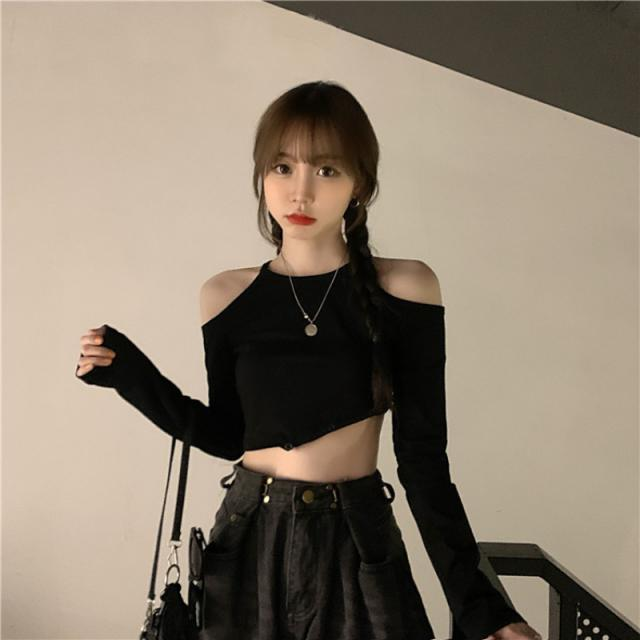Shirt: (198, 261, 450, 453)
